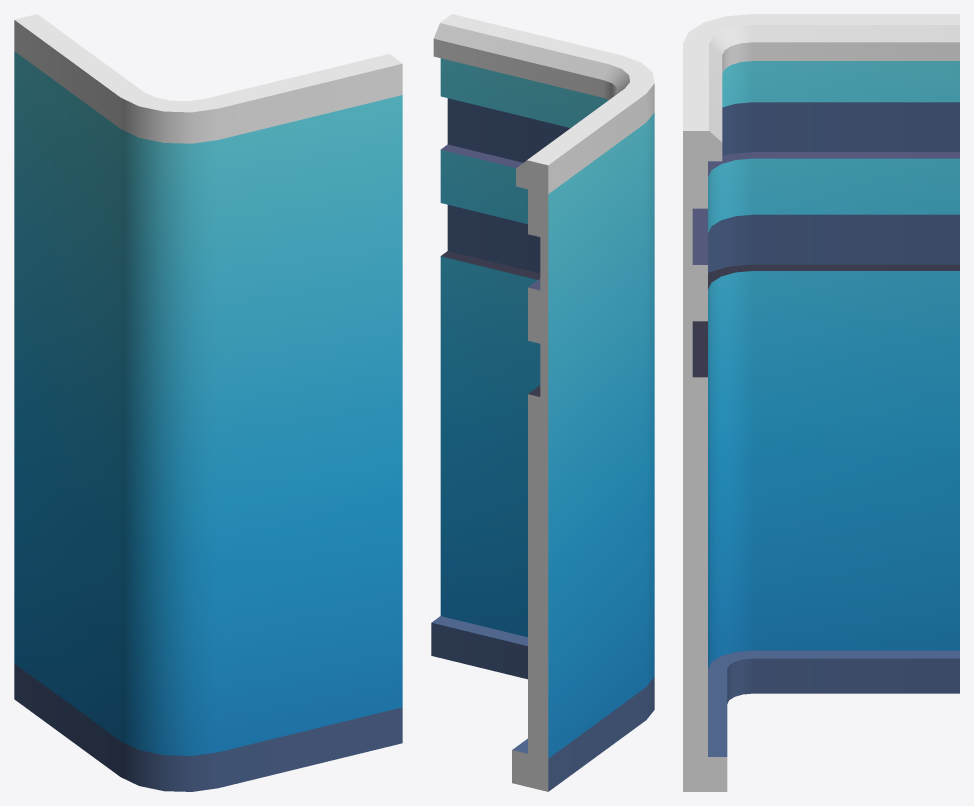
Rendered from 5Wall_Corner.fbx.
The picture shows the model from 3 angles, left to right: view 1: azimuth 30°, elevation 25°; view 2: azimuth 150°, elevation 25°; view 3: azimuth 270°, elevation 25°; orthographic projection. The views are drawn at different scales.
Visible parts, largest first — view 1: 5Wall_Corner; view 2: 5Wall_Corner; view 3: 5Wall_Corner.
Boxes of the visible parts, x1=… form: 5Wall_Corner: x1=14, y1=14, x2=402, y2=791; 5Wall_Corner: x1=431, y1=14, x2=654, y2=791; 5Wall_Corner: x1=683, y1=14, x2=959, y2=791.
Size of the model in its own units: 134 by 353 by 134.
